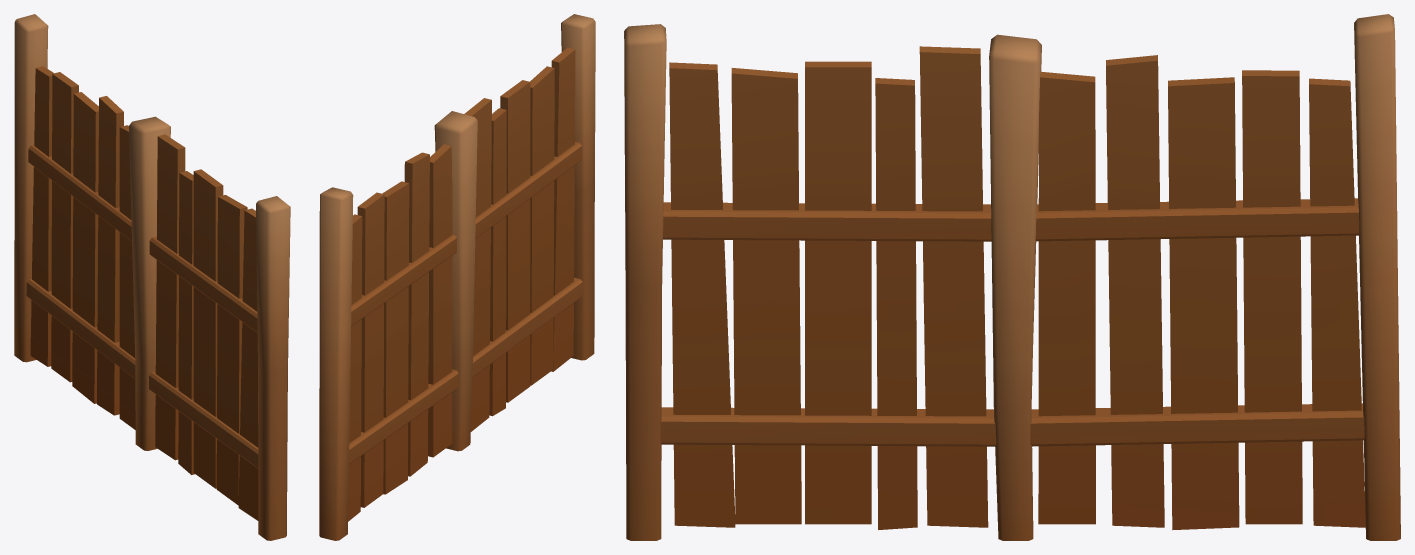
Rendered from WallFence_2_2_A.fbx.
3 views of the same model, side by side, from view 1: azimuth 30°, elevation 25°; view 2: azimuth 150°, elevation 25°; view 3: azimuth 270°, elevation 25° (orthographic). The views are drawn at different scales.
Parts seen in each view (by area): view 1: WallFence_2_2_A; view 2: WallFence_2_2_A; view 3: WallFence_2_2_A.
Part boxes in pixels (bbox=[...]): WallFence_2_2_A: bbox=[14, 14, 290, 540]; WallFence_2_2_A: bbox=[319, 14, 595, 540]; WallFence_2_2_A: bbox=[624, 14, 1400, 540].
Bounding box in the file's own units: 14.3 × 152 × 209.
